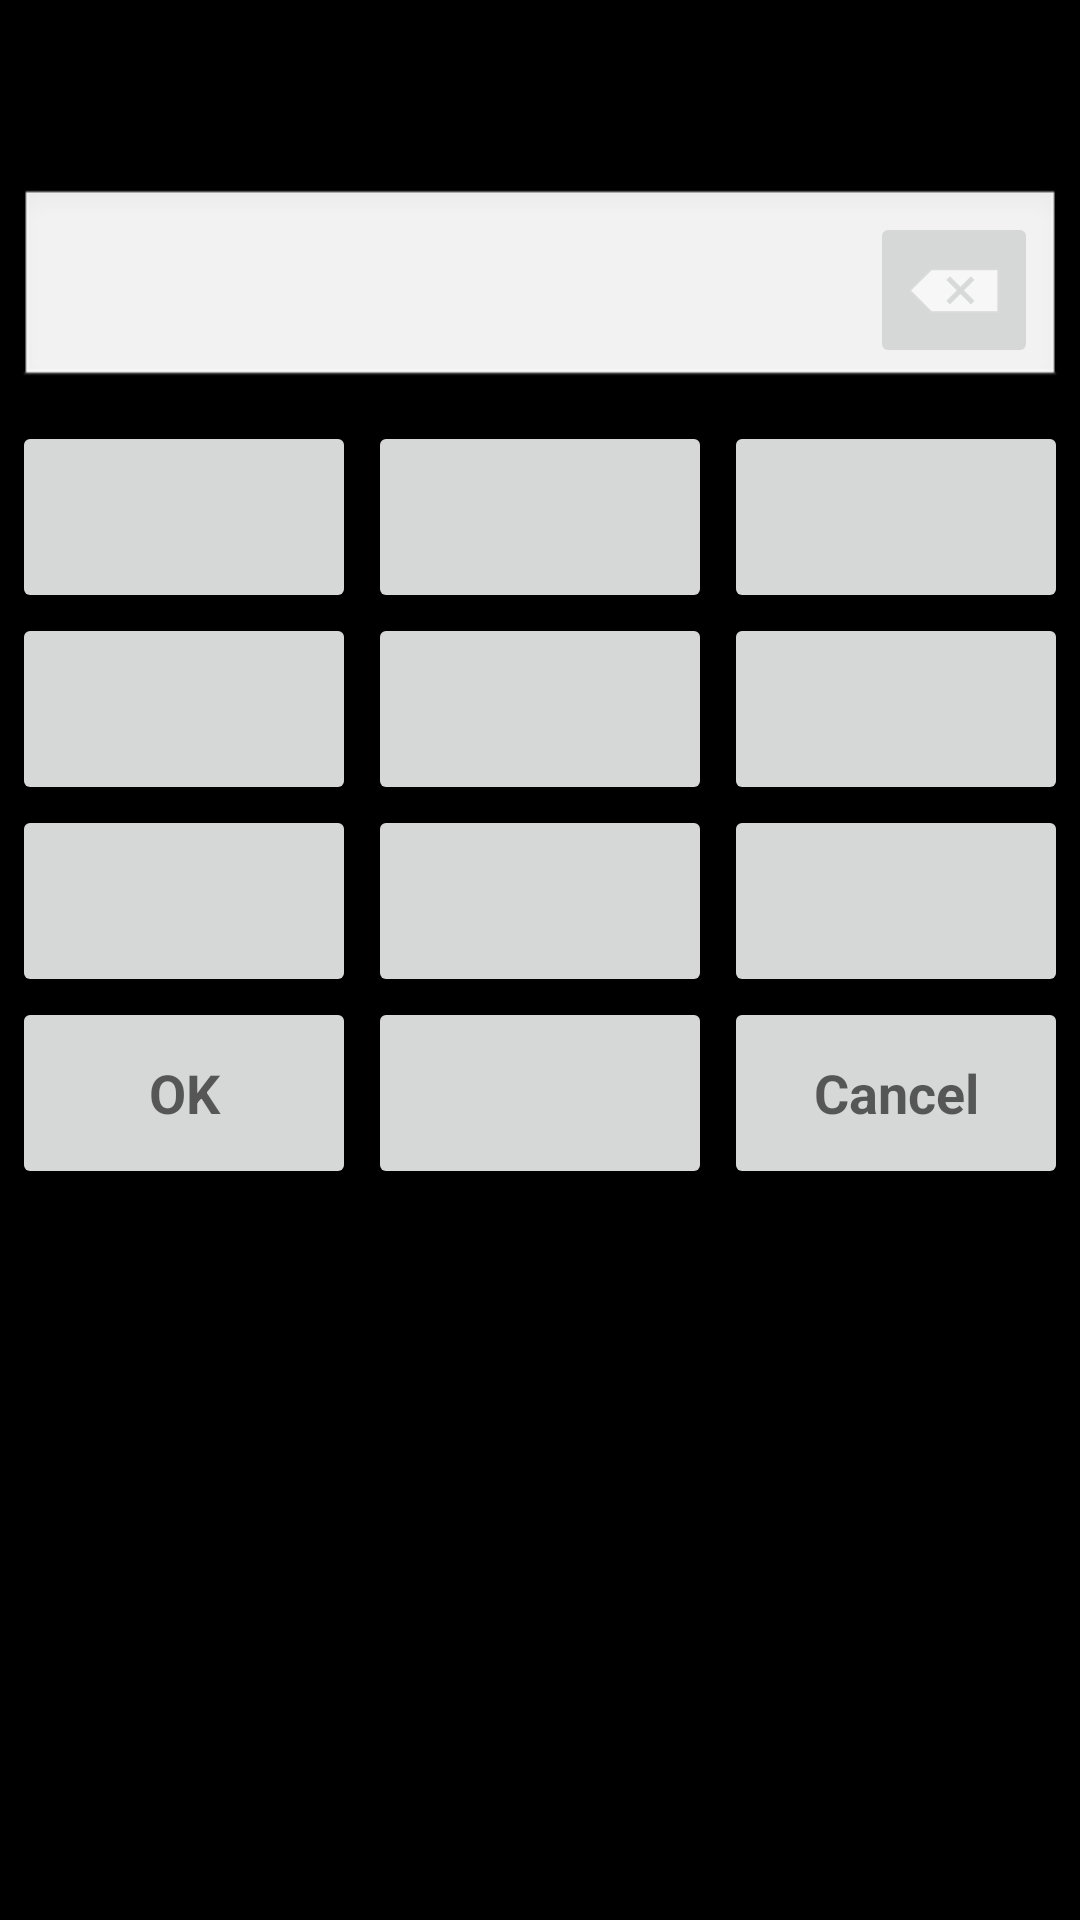

Icon click points for this 1080 × 1920 phone screenshot, format [x,y]:
delete: [954,290]
